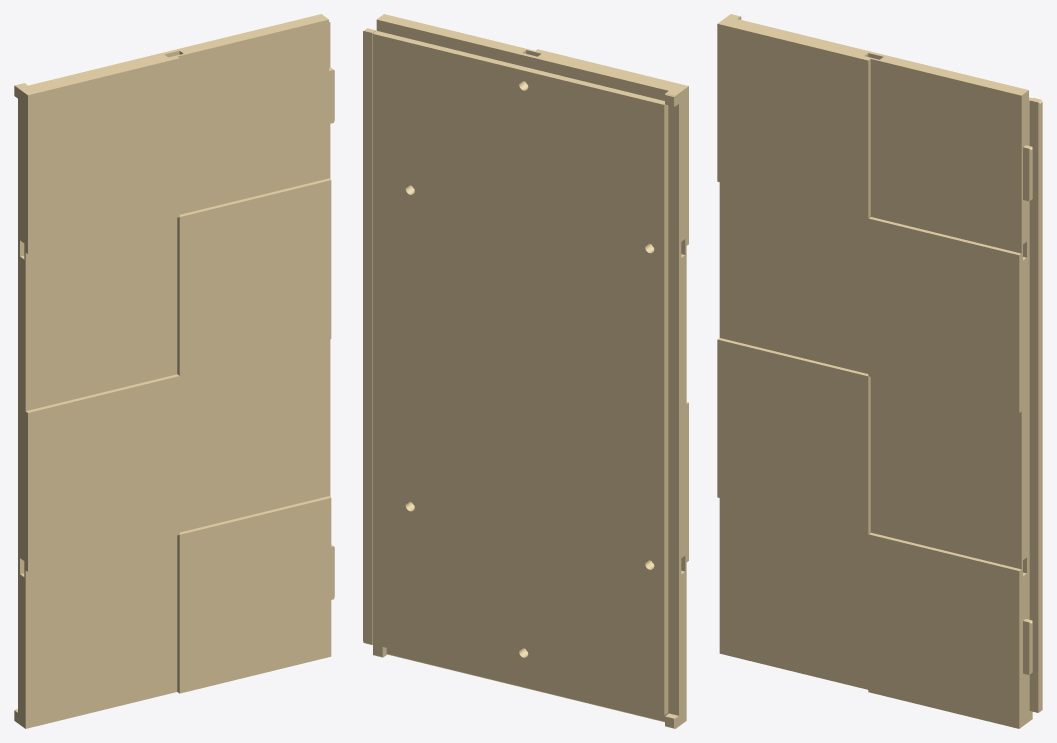
File: .panel_north_ab_light_body.step.glb
3 views of the same model, side by side, from view 1: azimuth 30°, elevation 25°; view 2: azimuth 150°, elevation 25°; view 3: azimuth 330°, elevation 25° (orthographic).
Visible parts, largest first — view 1: o1; view 2: o1; view 3: o1.
Boxes of the visible parts, bbox=[...] form: o1: bbox=[14, 14, 334, 728]; o1: bbox=[363, 14, 688, 728]; o1: bbox=[717, 14, 1042, 728].
Size of the model in its own units: 0.124 by 0.24 by 0.0096.
